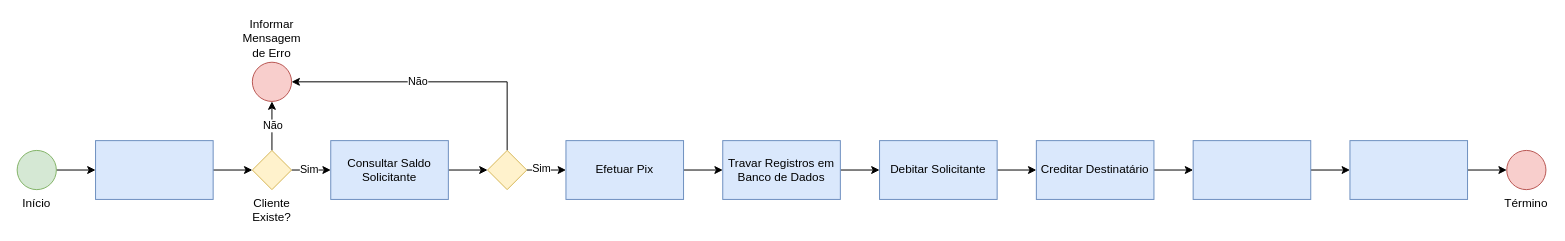
The diagram is 1565 pixels wide and 241 high, and some of its shapes have lost their labels. Here are the shapes that lost their labels. From the top down, the centre of each, then its label:
At (154,169): "Consultar Cliente Destinatário".
At (507,169): "Saldo Disponível?".
At (1251,169): "Gerar Comprovante".
At (1408,169): "Liberar Registros em Banco de Dados".
